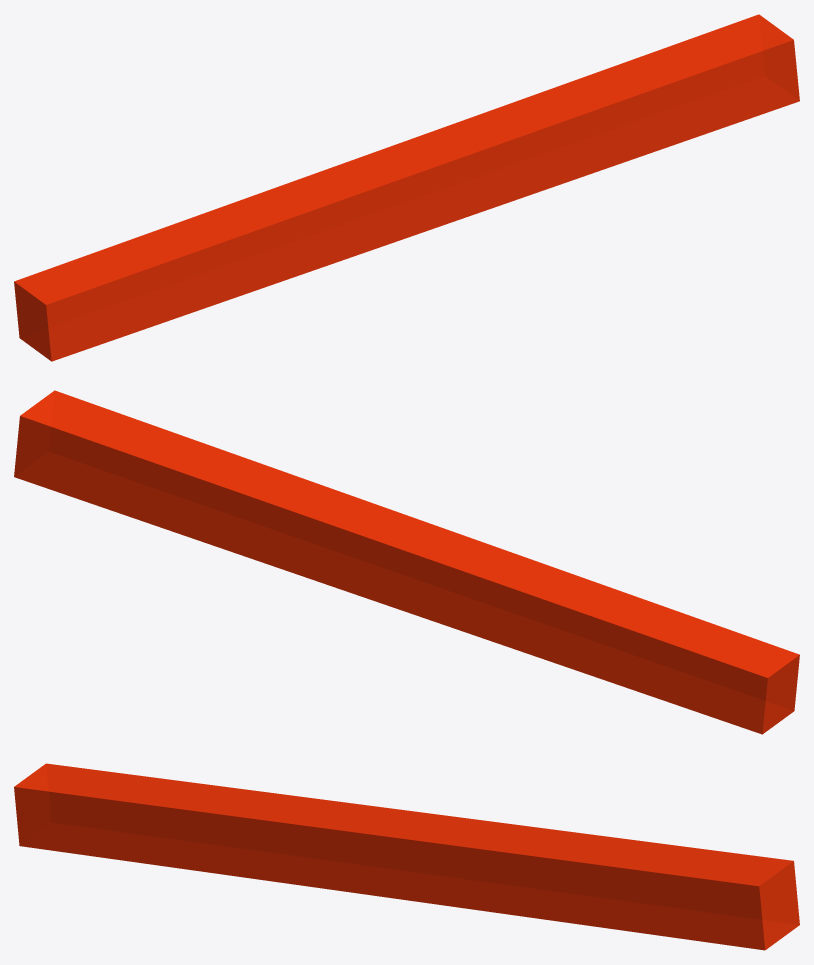
File: Event_421278790_EErechit_37.fbx
The picture shows the model from 3 angles, top to bottom: view 1: azimuth 30°, elevation 25°; view 2: azimuth 150°, elevation 25°; view 3: azimuth 330°, elevation 25°; orthographic projection.
Visible parts, largest first — view 1: Model; view 2: Model; view 3: Model.
Boxes of the visible parts, x1,y1,x2,y2 form: Model: [14, 14, 799, 361]; Model: [14, 390, 799, 734]; Model: [14, 763, 799, 950].
Size of the model in its own units: 0.9819 by 0.1752 by 0.0787.
